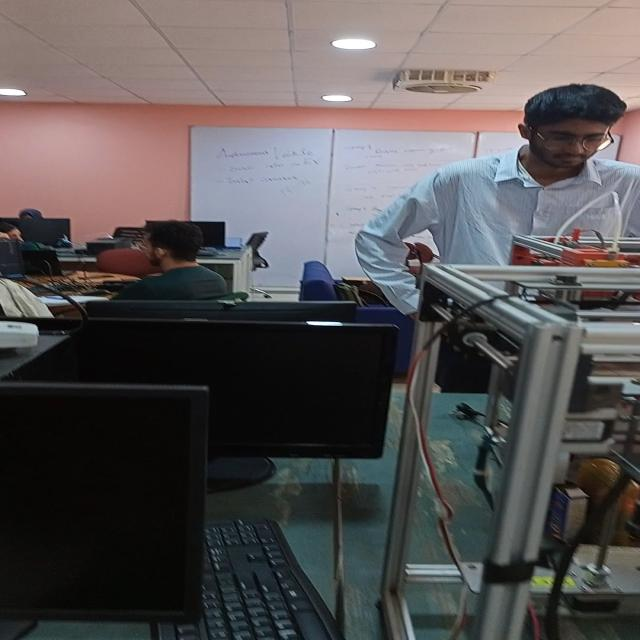dress: (354, 144, 640, 296)
glasses: (534, 129, 616, 152)
